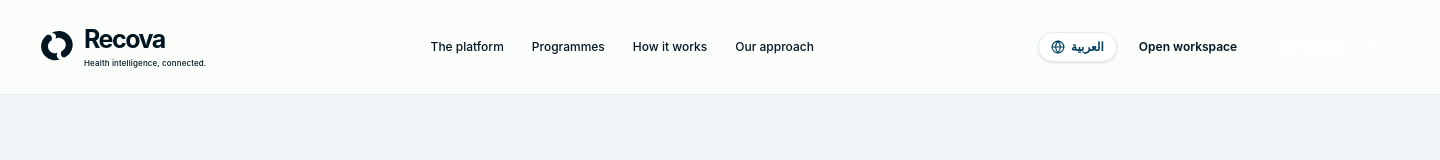
Test: Root-level i18n dictionary, navbars, patterns, and live watcher › translates LandingNavigation navbar completely and toggles back to English
Expected: the text "Health intelligence, connected." is shown, [84,59,206,67]
Expected: the link "The platform" is shown, [430,39,504,54]
Click the button with aria-label "Toggle language" at x=1078, y=47, box [1038,32,1117,62]
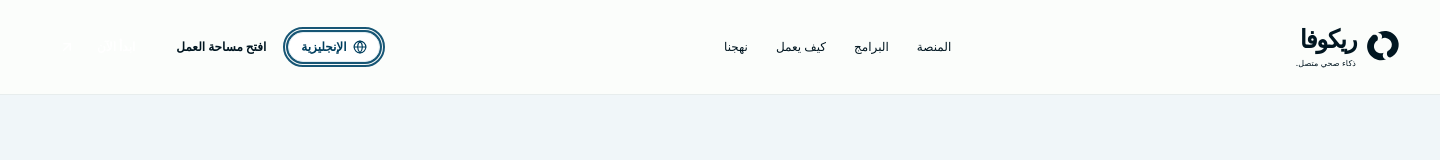
Now the text "ذكاء صحي متصل." is shown, box [1296,59,1356,67]
Now the link "المنصة" is shown, box [917,39,951,54]
Now the link "البرامج" is shown, box [854,39,889,54]
Click the button with aria-label "Toggle language" at x=334, y=47, box [288,32,380,62]
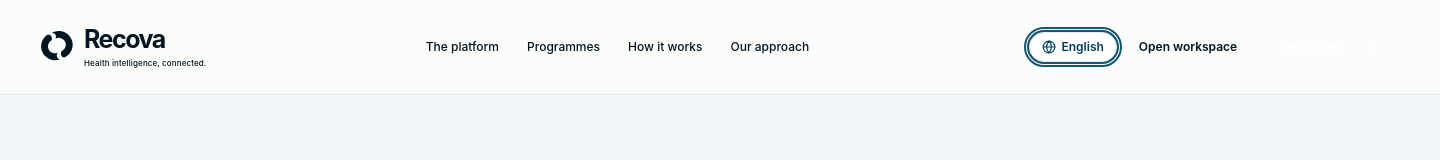
Now the text "Health intelligence, connected." is shown, box [84,59,206,67]
Now the link "The platform" is shown, box [426,39,499,54]
